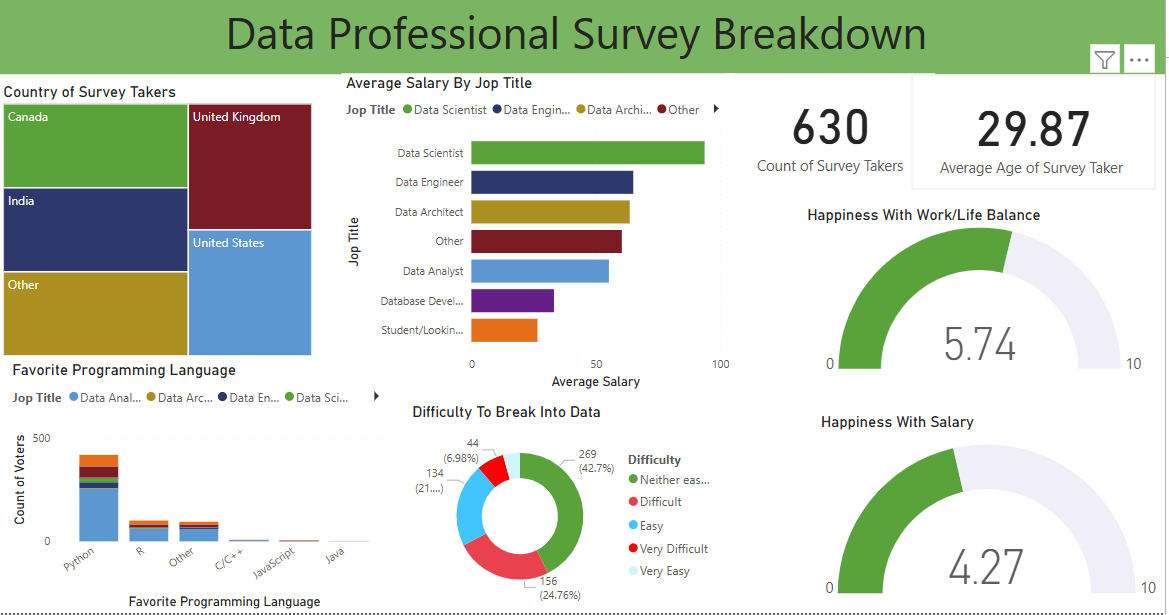

This screenshot's page, from the dashboard's own definition file:
{"tool":"powerbi","page":{"name":"Page 1","canvas":[1280,720],"ordinal":0},"visuals":[{"type":"textbox","box":[9.6,0,1270.7,129],"z":0},{"type":"textbox","box":[0,43.9,1280.3,85.1],"z":1000},{"type":"card","fields":{"Values":["Count(Data Professional Survey.Unique ID)"]},"box":[797.3,127.6,230.5,126.2],"z":2000},{"type":"card","fields":{"Values":["Avg(Data Professional Survey.Q10 - Current Age)"]},"box":[1001.7,129,267.6,126.2],"z":3000},{"type":"barChart","title":"Average Salary By Jop Title","fields":{"Category":["Data Professional Survey.Q1 - Which Title Best Fits your Current Role?.1"],"Y":["Avg(Data Professional Survey.Average Salary)"],"Series":["Data Professional Survey.Q1 - Which Title Best Fits your Current Role?.1"]},"box":[376,127.6,430.9,351.3],"z":4000},{"type":"columnChart","title":" Favorite Programming Language","fields":{"Category":["Data Professional Survey.Q5 - Favorite Programming Language.1"],"Y":["CountNonNull(Data Professional Survey.Unique ID)"],"Series":["Data Professional Survey.Q1 - Which Title Best Fits your Current Role?.1"]},"box":[9.6,443.2,424,277.2],"z":5000},{"type":"treemap","title":" Country of Survey Takers","fields":{"Group":["Data Professional Survey.Q11 - Which Country do you live in?.1"],"Values":["Count(Data Professional Survey.Q11 - Which Country do you live in?.1)"]},"box":[0,127.6,348.5,306],"z":6000},{"type":"gauge","title":"Happiness With Work/Life Balance","fields":{"Y":["Avg(Data Professional Survey.Q6 - How Happy are you in your Current Position with the following? (Work/Life Balance))"],"MinValue":["Min(Data Professional Survey.Q6 - How Happy are you in your Current Position with the following? (Work/Life Balance))"],"MaxValue":["Max(Data Professional Survey.Q6 - How Happy are you in your Current Position with the following? (Work/Life Balance))1"]},"box":[882.3,273.1,397.9,189.4],"z":7000},{"type":"gauge","title":"Happiness With Salary","fields":{"Y":["Avg(Data Professional Survey.Q6 - How Happy are you in your Current Position with the following? (Salary))"],"MinValue":["Min(Data Professional Survey.Q6 - How Happy are you in your Current Position with the following? (Salary))"],"MaxValue":["Max(Data Professional Survey.Q6 - How Happy are you in your Current Position with the following? (Salary))"]},"box":[897.4,499.5,382.8,220.9],"z":8000},{"type":"donutChart","title":"Difficulty To Break Into Data","fields":{"Category":["Data Professional Survey.Q7 - How difficult was it for you to break into Data?"],"Y":["CountNonNull(Data Professional Survey.Q7 - How difficult was it for you to break into Data?)"]},"box":[448.7,488.5,348.5,231.9],"z":9000}]}

Visuals, with their boxes on the page's 1280x720 design canvas (x1, y1, x2, y2). These are canvas units, not pixel positions in the 1169x615 screenshot, which may show the page scaled, cropped or inside an application window:
textbox: x1=10 y1=0 x2=1280 y2=129
textbox: x1=0 y1=44 x2=1280 y2=129
card - Count(Data Professional Survey.Unique ID): x1=797 y1=128 x2=1028 y2=254
card - Avg(Data Professional Survey.Q10 - Current Age): x1=1002 y1=129 x2=1269 y2=255
"Average Salary By Jop Title" barChart: x1=376 y1=128 x2=807 y2=479
" Favorite Programming Language" columnChart: x1=10 y1=443 x2=434 y2=720
" Country of Survey Takers" treemap: x1=0 y1=128 x2=348 y2=434
"Happiness With Work/Life Balance" gauge: x1=882 y1=273 x2=1280 y2=462
"Happiness With Salary" gauge: x1=897 y1=500 x2=1280 y2=720
"Difficulty To Break Into Data" donutChart: x1=449 y1=488 x2=797 y2=720
